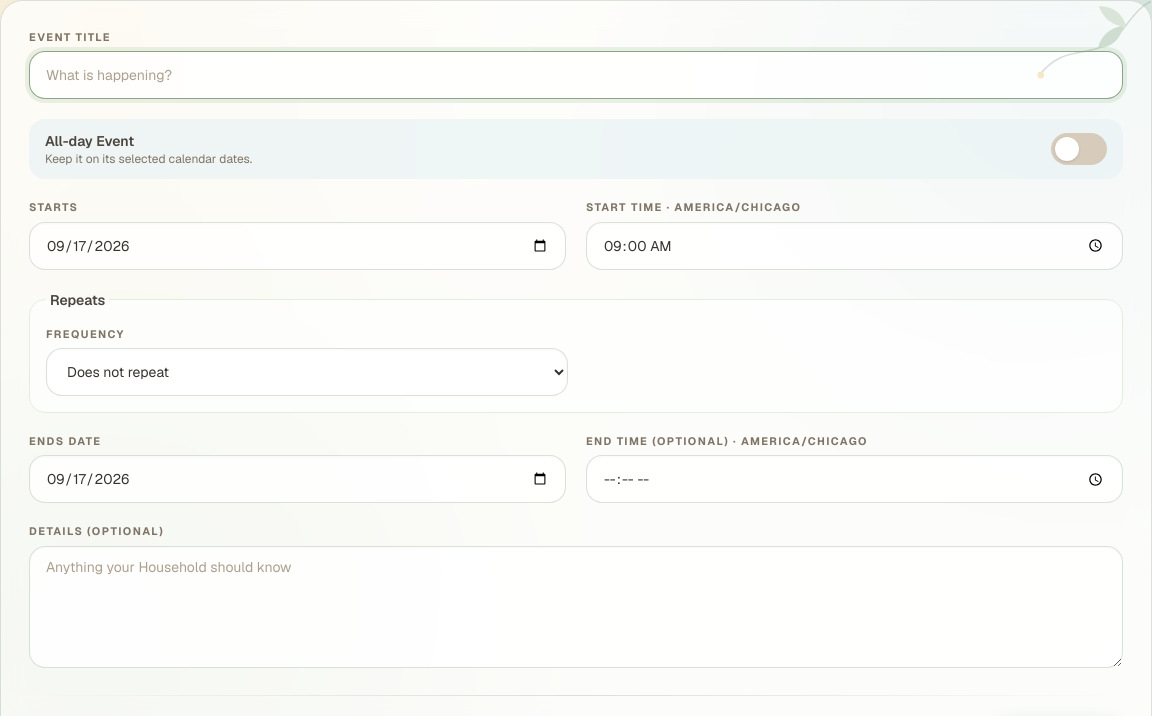
Test: Event form › temporarily remembers timed values while all-day mode is selected
Replace the text in the time field labelled "Start time · America/Chicago" with "18:50": (854, 246) top-left (586, 222), bottom-right (1123, 270)
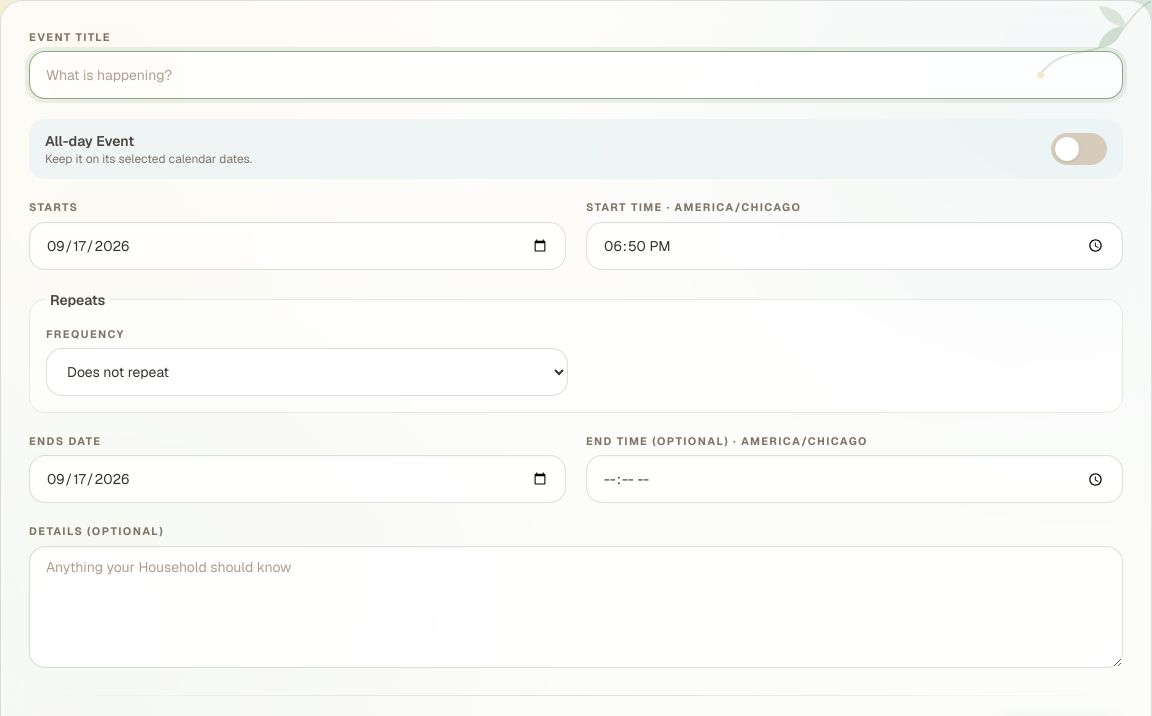
Click the switch named "Toggle all-day Event": click(1079, 149) top-left (1051, 133), bottom-right (1107, 165)
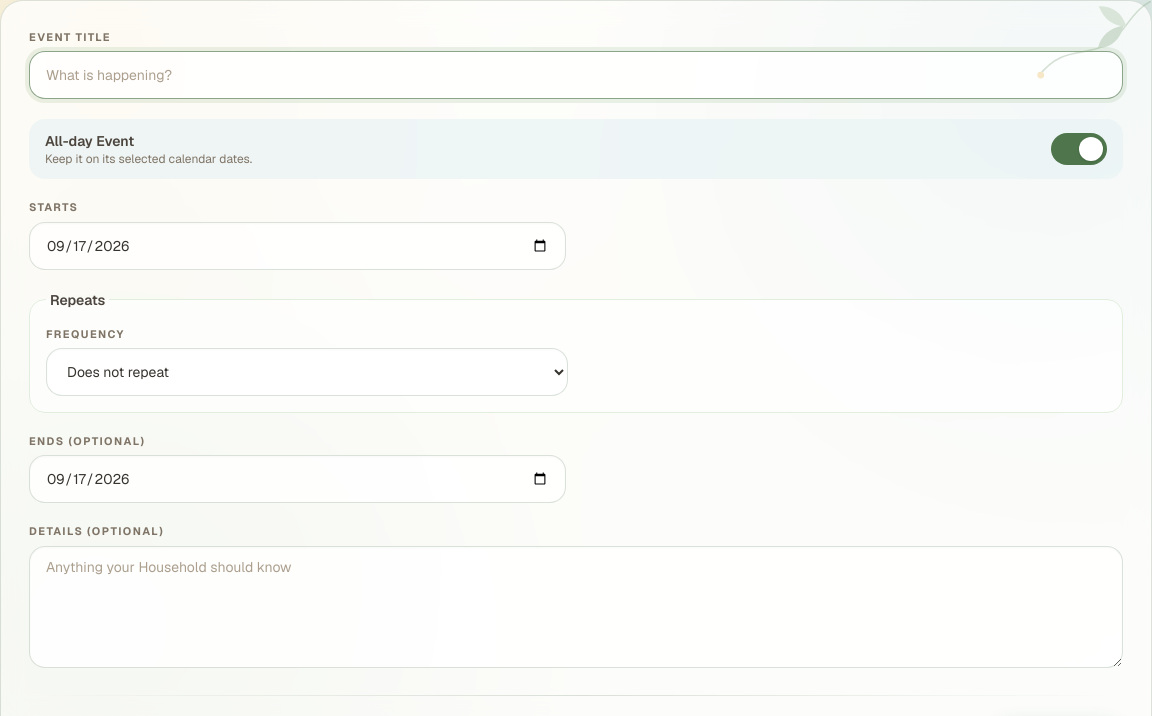
Result: the text labelled "Start time" is gone
Click the switch named "Toggle all-day Event": click(1079, 149) top-left (1051, 133), bottom-right (1107, 165)
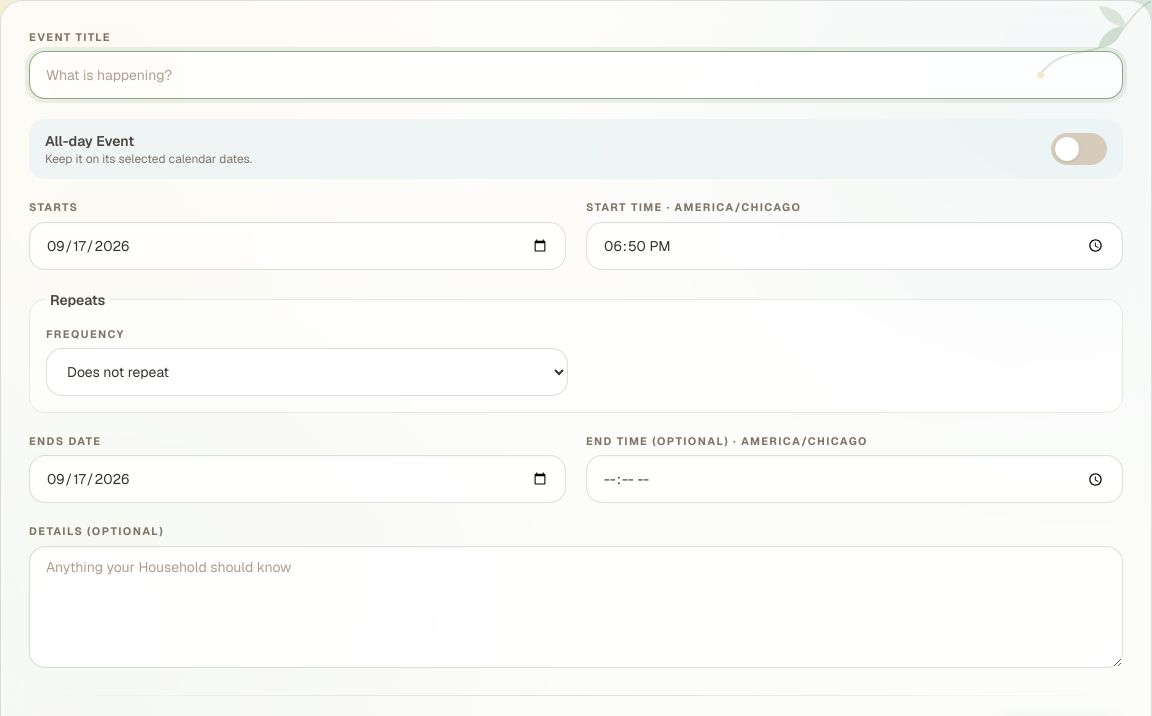
Result: the time field labelled "Start time · America/Chicago" holds "18:50" at top-left (586, 222), bottom-right (1123, 270)
